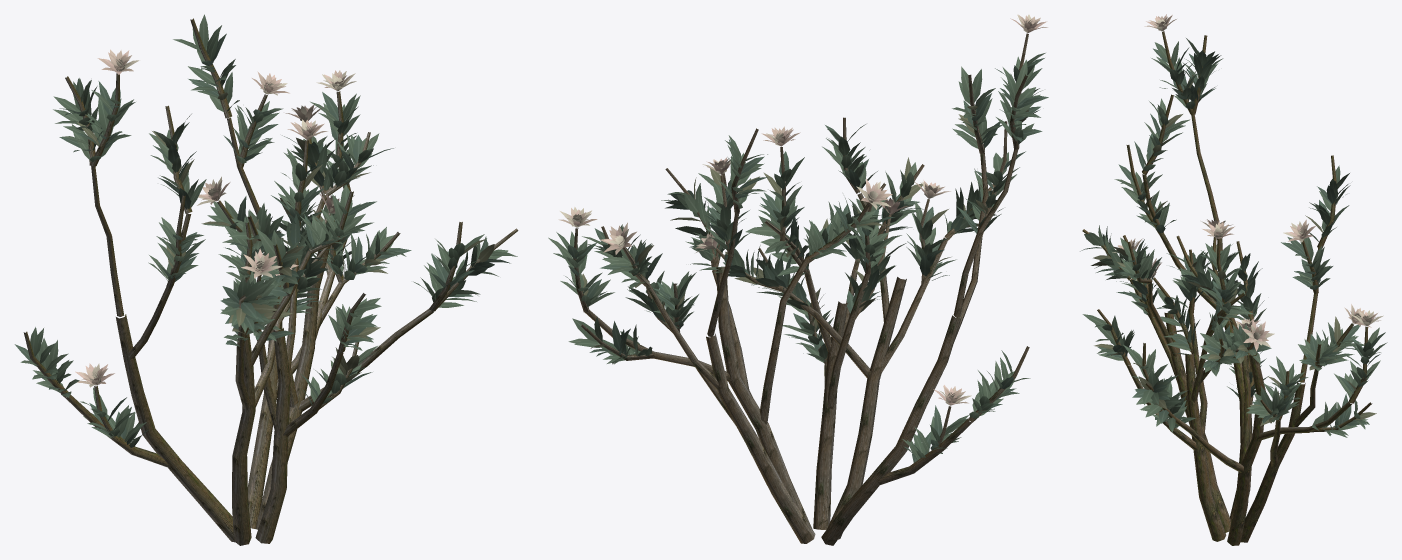
Rendered from protea_shrub.glb.
3 views of the same model, side by side, from view 1: azimuth 30°, elevation 25°; view 2: azimuth 150°, elevation 25°; view 3: azimuth 270°, elevation 25° (orthographic). The views are drawn at different scales.
Visible parts, largest first — view 1: protea_shrub; view 2: protea_shrub; view 3: protea_shrub.
Part boxes in pixels (box(x1,y1,x2,y2)): protea_shrub: box(14, 14, 518, 545); protea_shrub: box(548, 14, 1048, 545); protea_shrub: box(1080, 14, 1387, 545).
Size of the model in its own units: 1.68 by 2.04 by 1.26.
3 materials, 3 textured.
